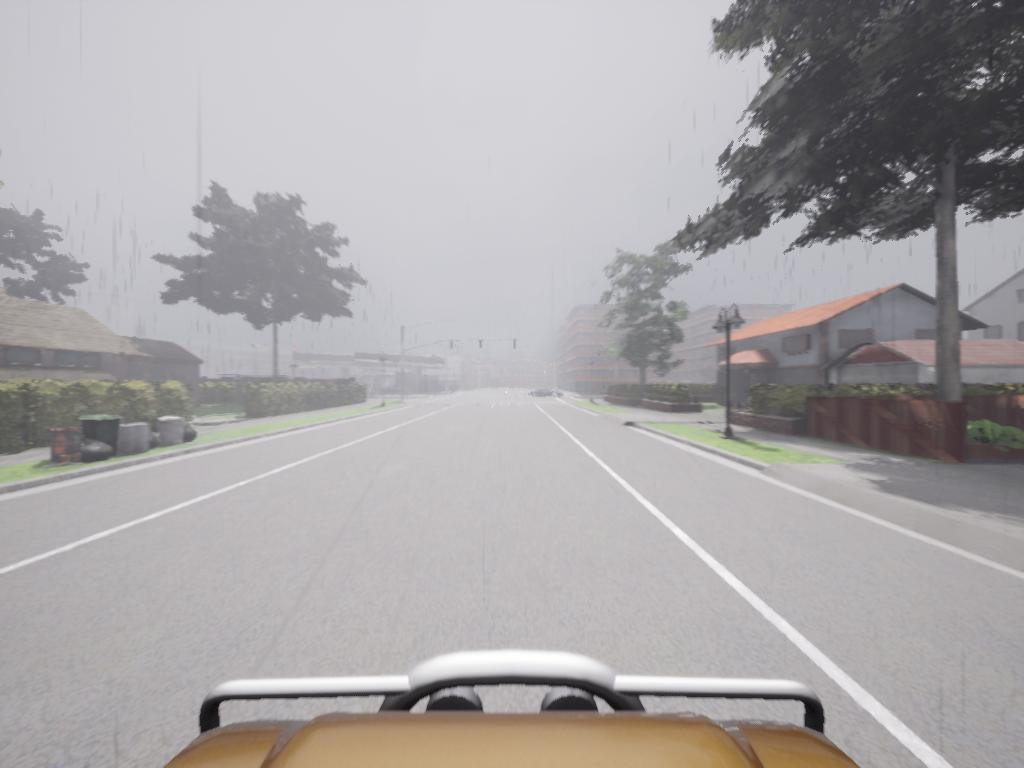traffic_light: (449, 339, 456, 353), (478, 339, 485, 353), (514, 340, 519, 351)
